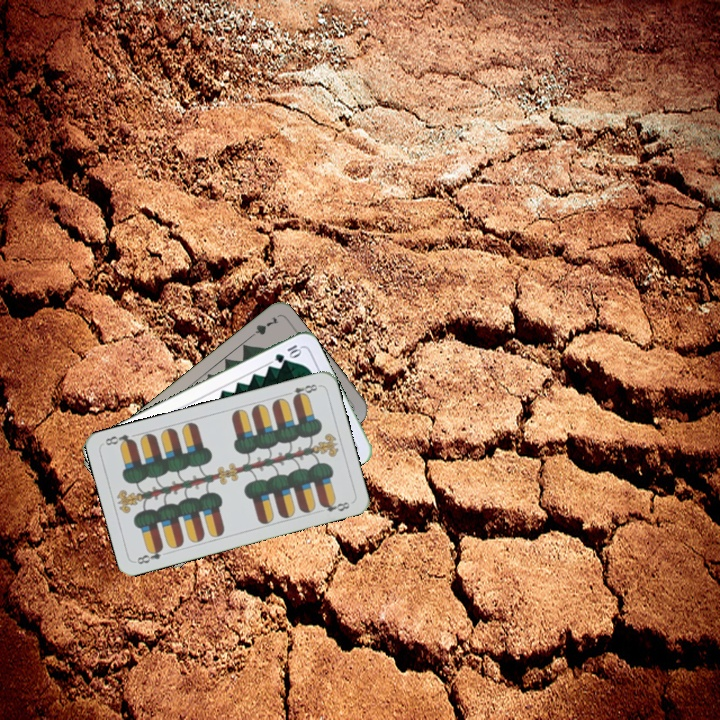E8: (282, 380, 320, 402), (133, 543, 166, 567)
G10: (271, 341, 304, 365)
G7: (244, 312, 281, 342)
